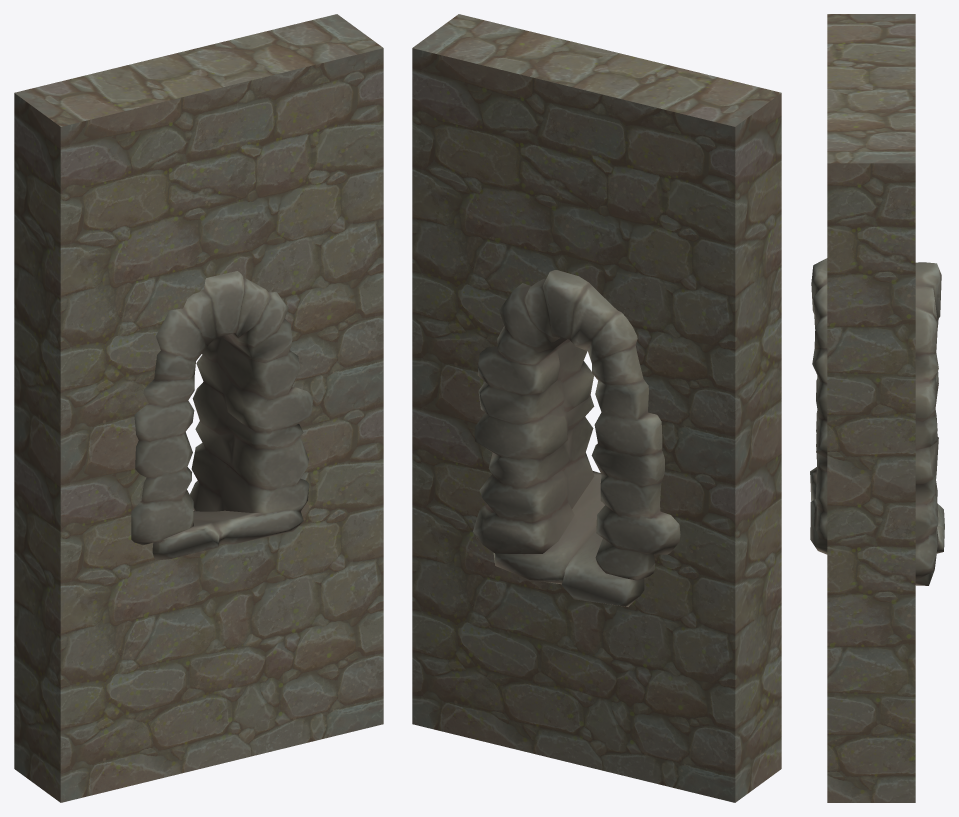
Rendered from SM_FW01_Ruins_Int_Window_A_2x4_01.fbx.
The picture shows the model from 3 angles, left to right: view 1: azimuth 30°, elevation 25°; view 2: azimuth 150°, elevation 25°; view 3: azimuth 270°, elevation 25°; orthographic projection. The views are drawn at different scales.
Parts seen in each view (by area): view 1: SM_FW01_Ruins_Int_Window_A_2x4_01, SM_FW01_Ruins_Int_Window_A_2x4_01_LOD0; view 2: SM_FW01_Ruins_Int_Window_A_2x4_01, SM_FW01_Ruins_Int_Window_A_2x4_01_LOD0; view 3: SM_FW01_Ruins_Int_Window_A_2x4_01, SM_FW01_Ruins_Int_Window_A_2x4_01_LOD0.
Part boxes in pixels (x1=…): SM_FW01_Ruins_Int_Window_A_2x4_01: x1=14, y1=14, x2=383, y2=802; SM_FW01_Ruins_Int_Window_A_2x4_01_LOD0: x1=131, y1=271, x2=313, y2=560; SM_FW01_Ruins_Int_Window_A_2x4_01: x1=412, y1=14, x2=781, y2=802; SM_FW01_Ruins_Int_Window_A_2x4_01_LOD0: x1=473, y1=270, x2=680, y2=606; SM_FW01_Ruins_Int_Window_A_2x4_01: x1=827, y1=14, x2=915, y2=802; SM_FW01_Ruins_Int_Window_A_2x4_01_LOD0: x1=810, y1=258, x2=944, y2=585.
Size of what is drawn, in the model's own units: 2 by 4 by 0.7647.
